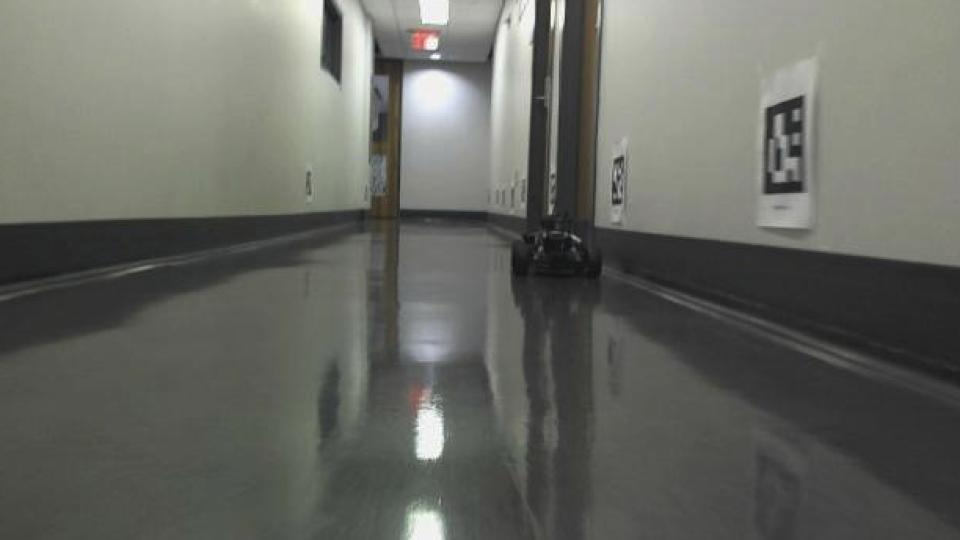car: (508, 212, 606, 282)
